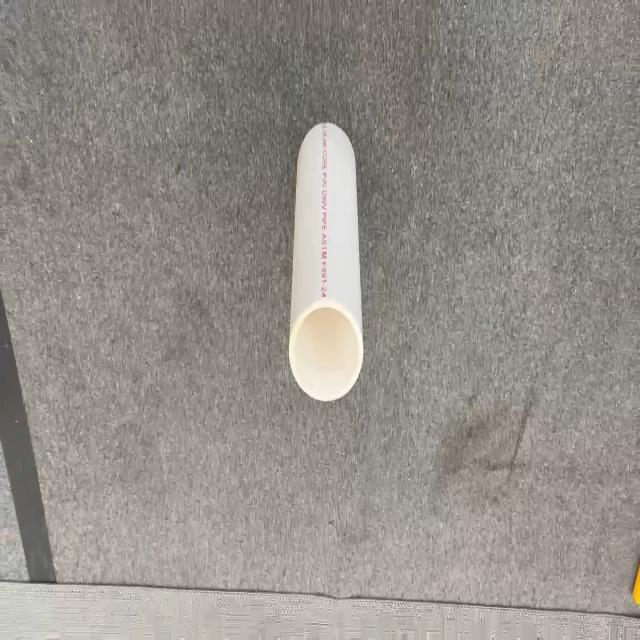coral: (288, 120, 364, 402)
